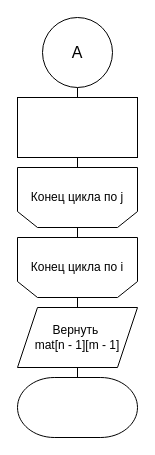
The diagram is 155 pixels wide and 455 high, and some of its shapes have lost their labels. Here are the shapes that lost their labels. From the top down, the centre of each, then its label:
At pixel 77 127: "mat[i][j] = min(v1, v2, v3)".
At pixel 77 407: "Конец".
